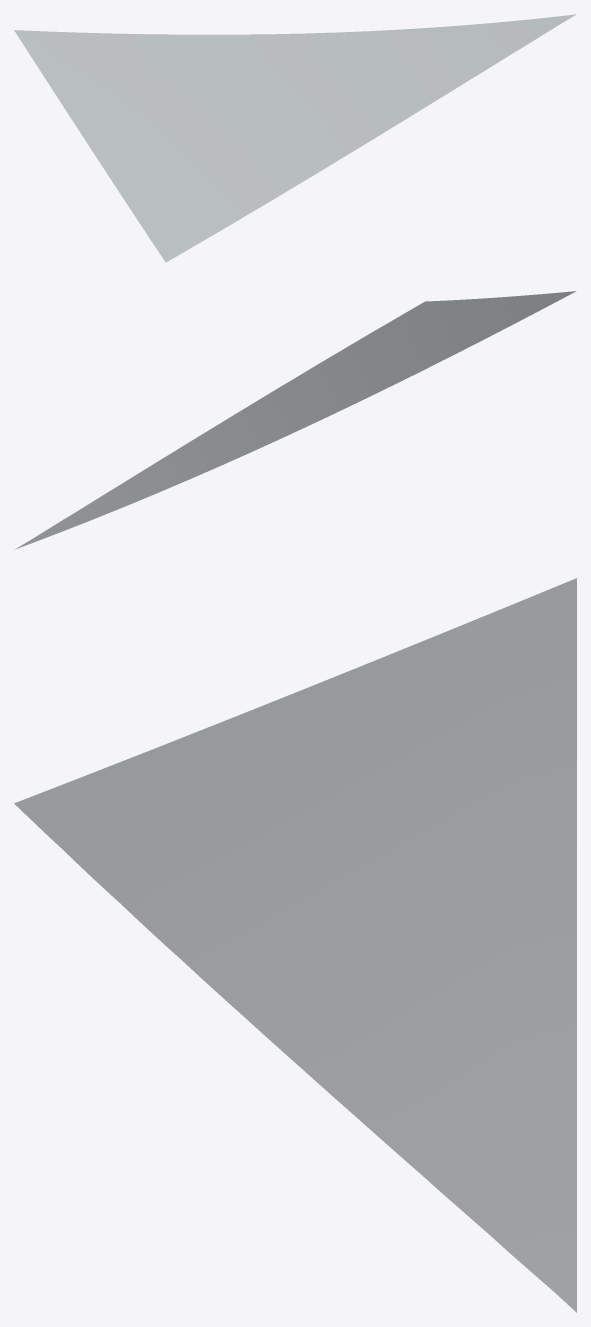
Rendered from alpine-10-9.glb.
3 views of the same model, one above another, from view 1: azimuth 30°, elevation 25°; view 2: azimuth 210°, elevation 25°; view 3: azimuth 270°, elevation 25° (orthographic). The views are drawn at different scales.
Parts seen in each view (by area): view 1: alpine-10-9; view 2: alpine-10-9; view 3: alpine-10-9.
Part boxes in pixels (<box>): alpine-10-9: <box>14,14,576,262</box>; alpine-10-9: <box>15,291,576,549</box>; alpine-10-9: <box>14,578,576,1312</box>.
Bounding box in the file's own units: 139 × 28.69 × 64.94.
Materials: 1 (1 with a texture image).
